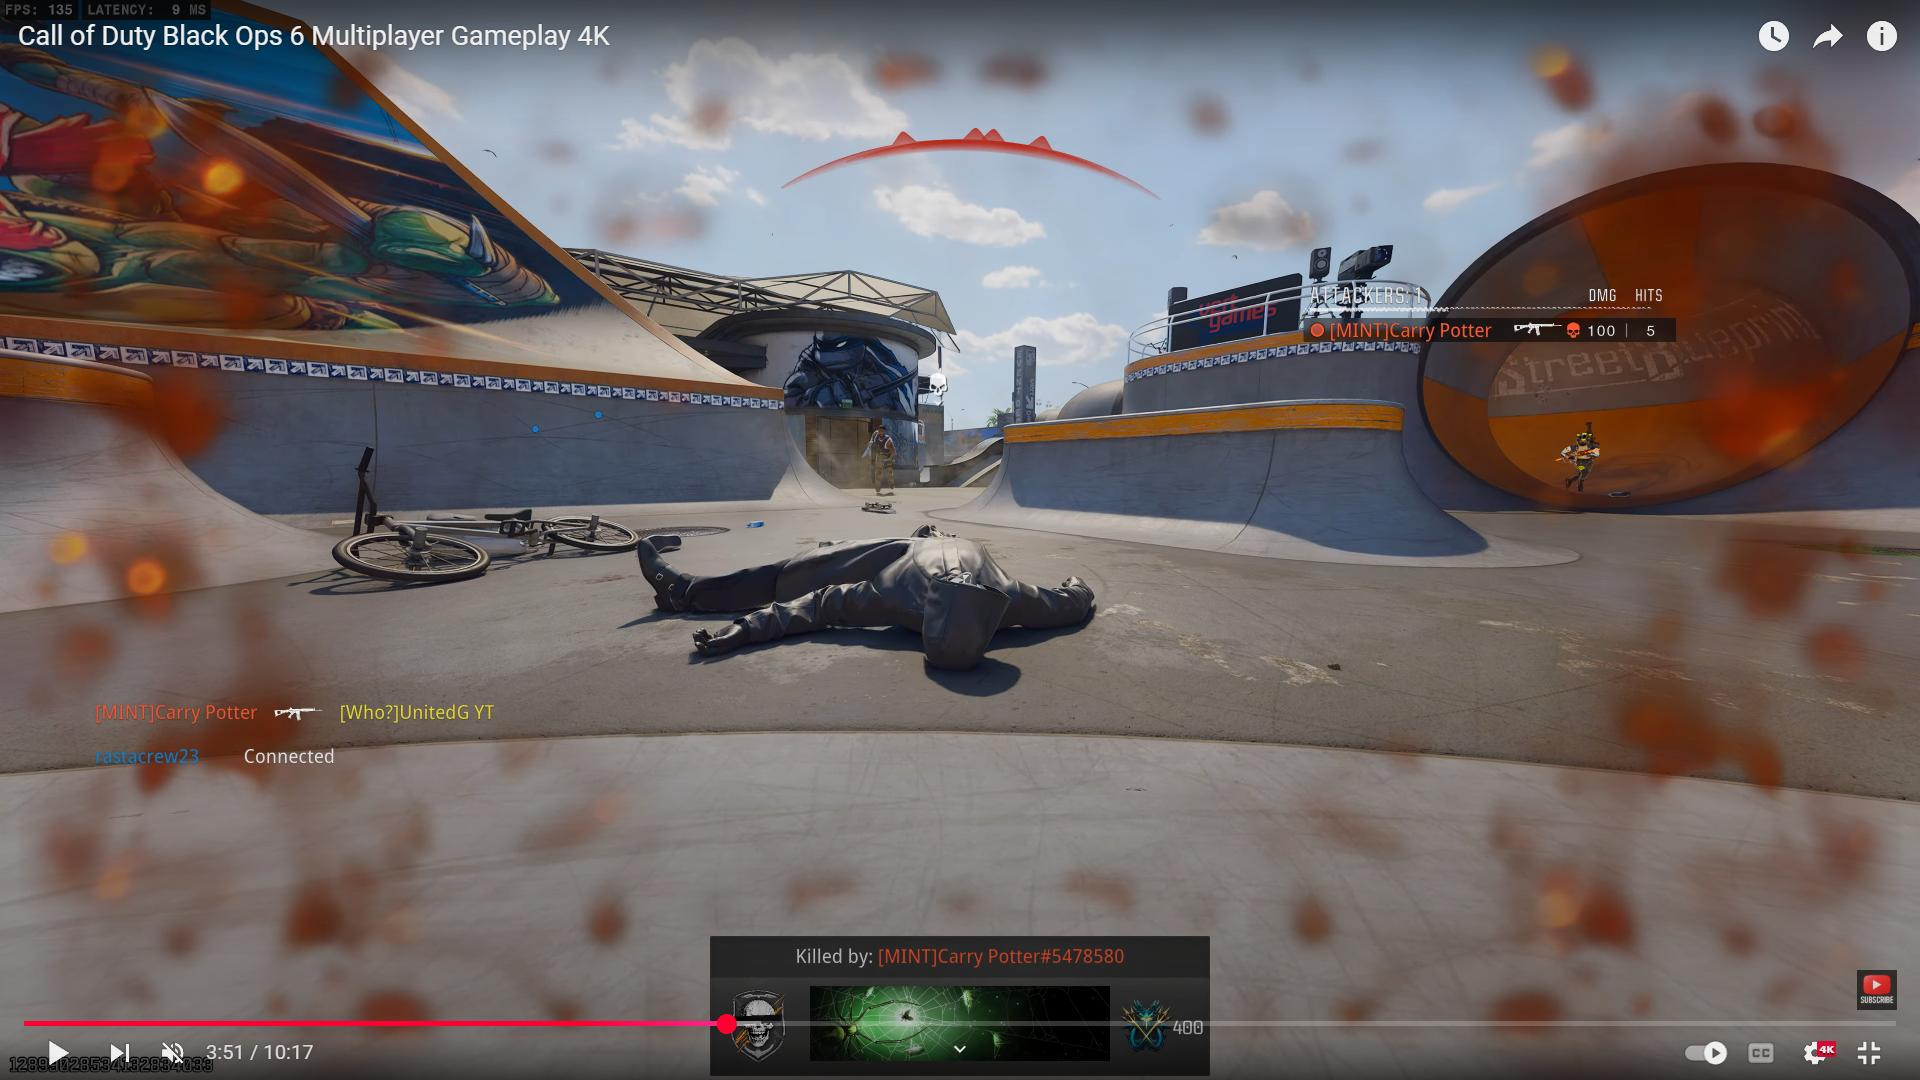Enemy: (1557, 422, 1606, 495), (860, 413, 899, 485)
